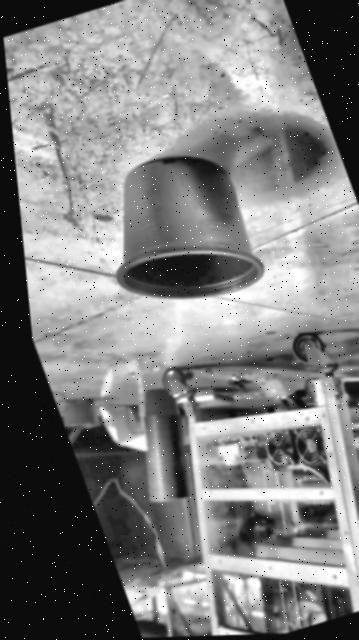pot: (79, 141, 271, 322)
